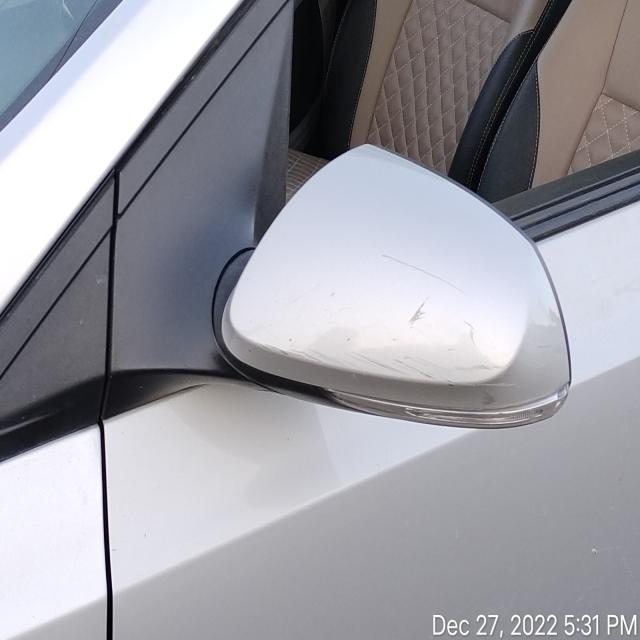damage: (264, 245, 507, 395)
